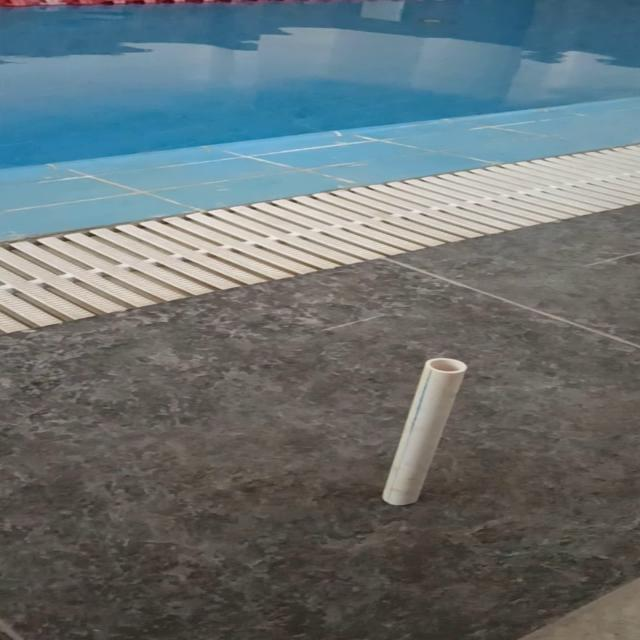Cube: (380, 356, 468, 506)
